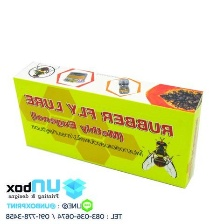insecticide: (10, 58, 206, 191)
